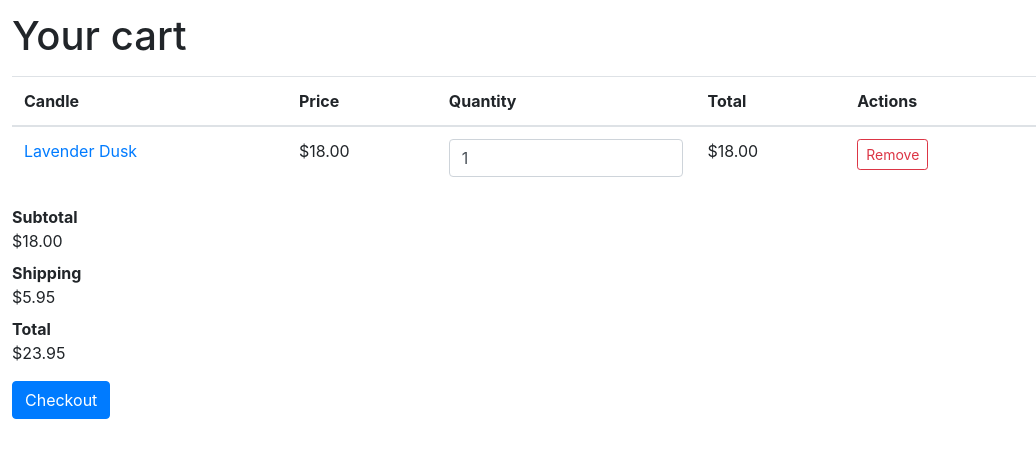
Test: CartComponent › [BR-C2] clamps a typed quantity above the cap
Replace the text in the number field with "15" at [566, 158], box [449,139,684,177]
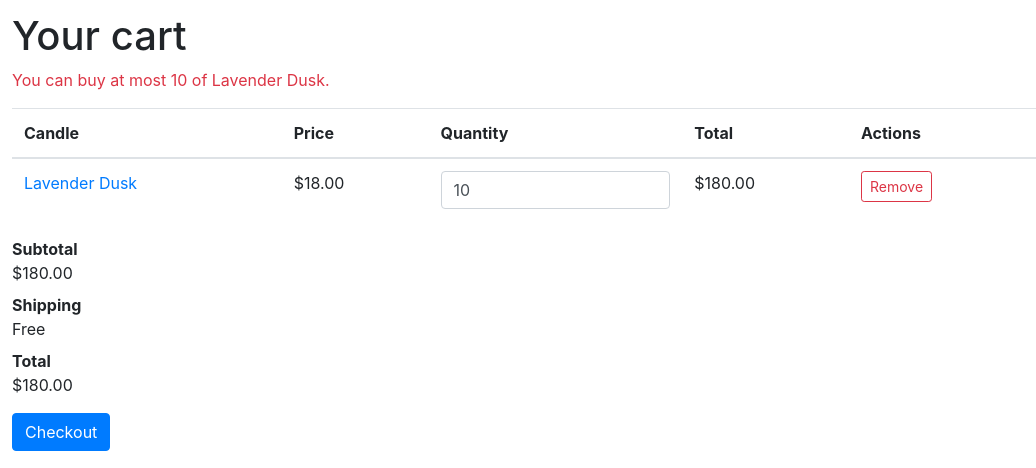
Check: the message "You can buy at most 10 of Lavender Dusk." is shown, box [12,70,330,90]
